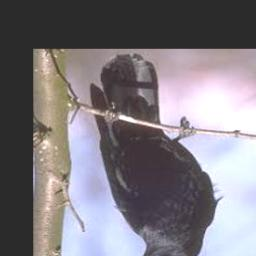Crow: (90, 54, 223, 256)
